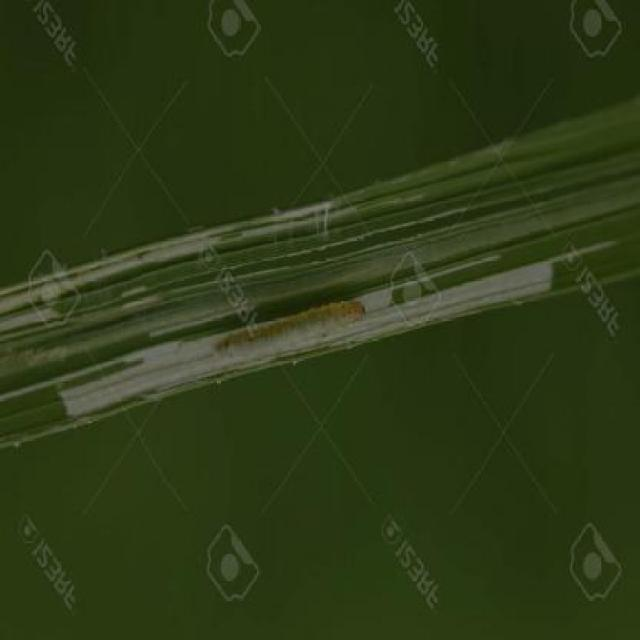leaf-folder: (205, 288, 377, 369)
